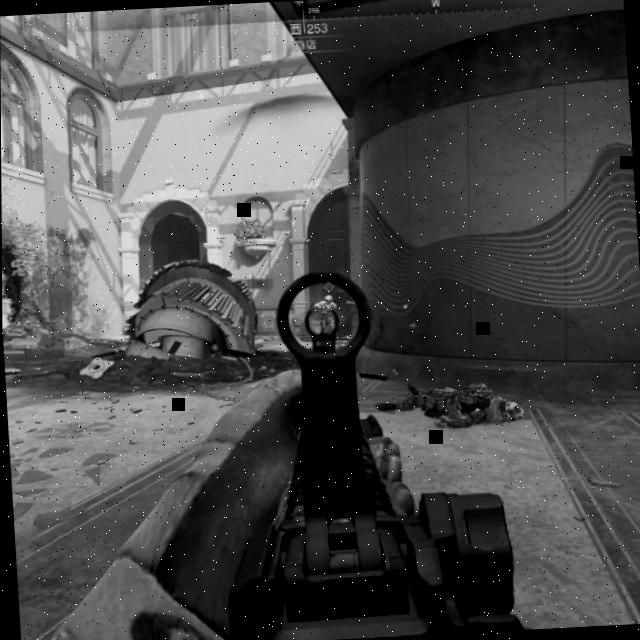MW2_body: (314, 281, 338, 334)
